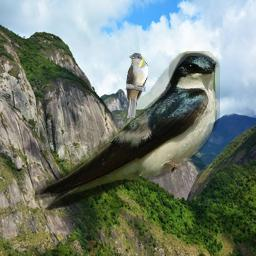Cuckoo: (125, 53, 148, 118)
Swallow: (35, 51, 220, 214)
